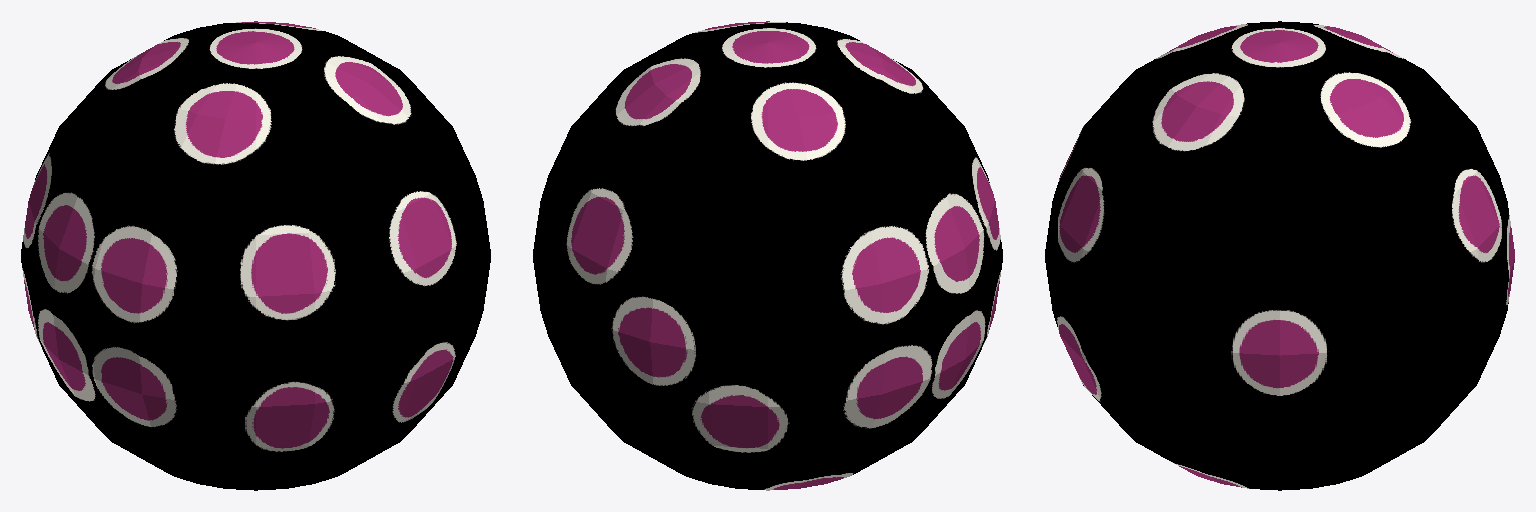
3 renders of one model, left to right at view 1: azimuth 30°, elevation 25°; view 2: azimuth 150°, elevation 25°; view 3: azimuth 270°, elevation 25°, orthographic.
Parts seen in each view (by area): view 1: Sphere_None; view 2: Sphere_None; view 3: Sphere_None.
Part boxes in pixels (bbox=[...]): Sphere_None: bbox=[21, 21, 490, 490]; Sphere_None: bbox=[533, 21, 1002, 490]; Sphere_None: bbox=[1045, 21, 1514, 490].
Size of the model in its own units: 2 by 2 by 2.
Materials: 1 (1 with a texture image).